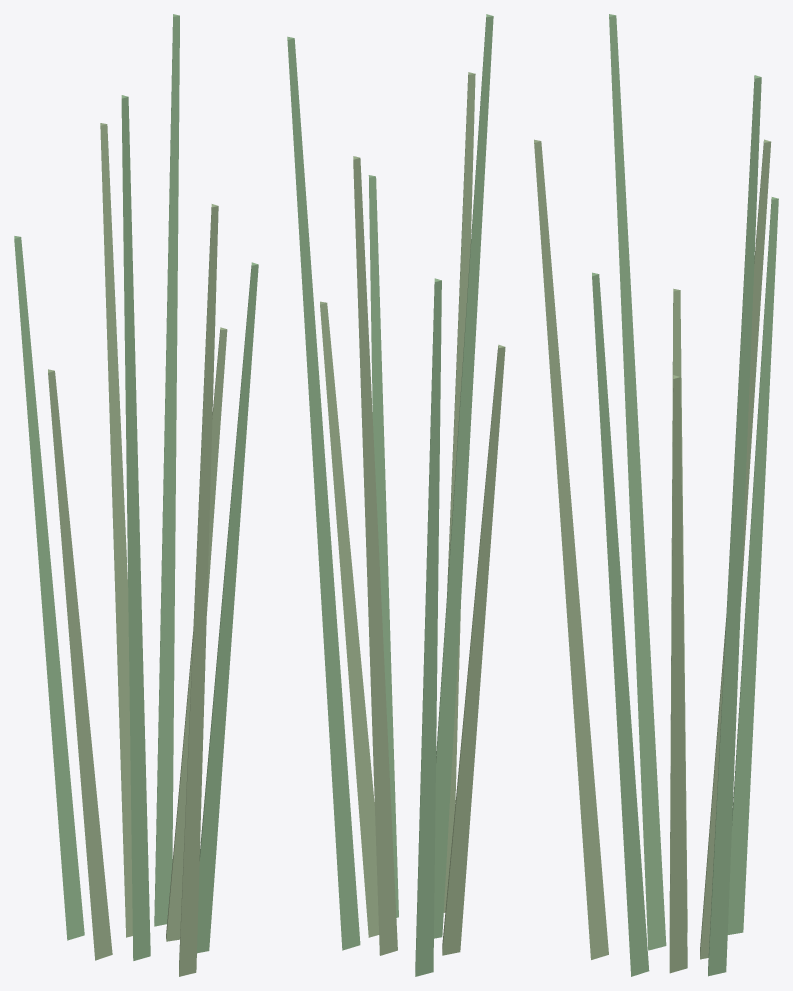
File: reed_v03.glb
3 renders of one model, left to right at view 1: azimuth 30°, elevation 25°; view 2: azimuth 150°, elevation 25°; view 3: azimuth 270°, elevation 25°, orthographic. The views are drawn at different scales.
Parts seen in each view (by area): view 1: lod0; view 2: lod0; view 3: lod0.
Part boxes in pixels (x1,y1,x2,y2): lod0: (14, 14, 258, 976); lod0: (287, 14, 505, 976); lod0: (534, 14, 778, 976).
Size of what is drawn, in the model's own units: 0.3538 by 1.67 by 0.4046.
